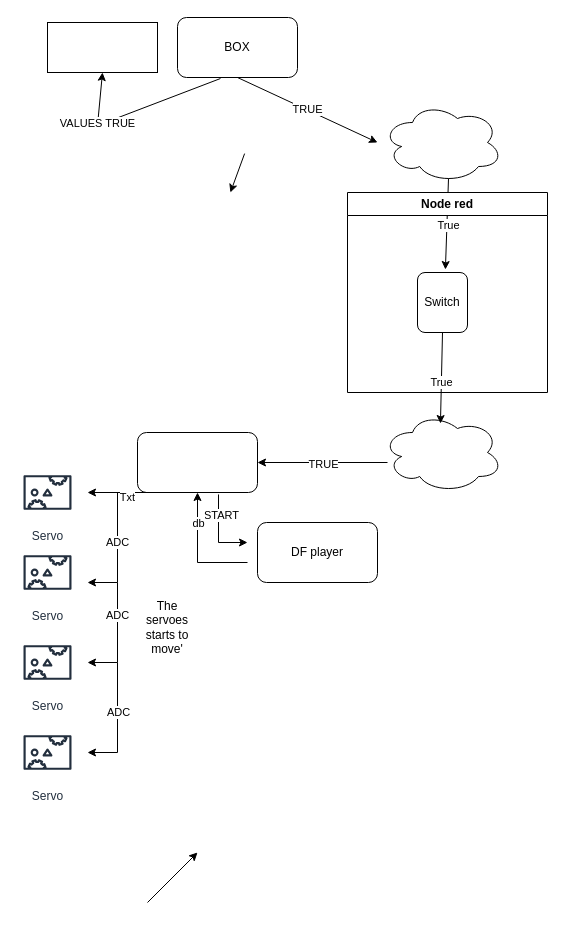
The diagram is 565 pixels wide and 928 high, and some of its shapes have lost their labels. Each missing label, with the box of its shape:
ESP32 (Robot): (136, 432, 258, 492)
LED strip: (46, 22, 158, 72)
MQTT Topic (esp32/sensor): (382, 102, 502, 182)
MQTT Topic (esp32/sensor/robot): (382, 412, 502, 492)
